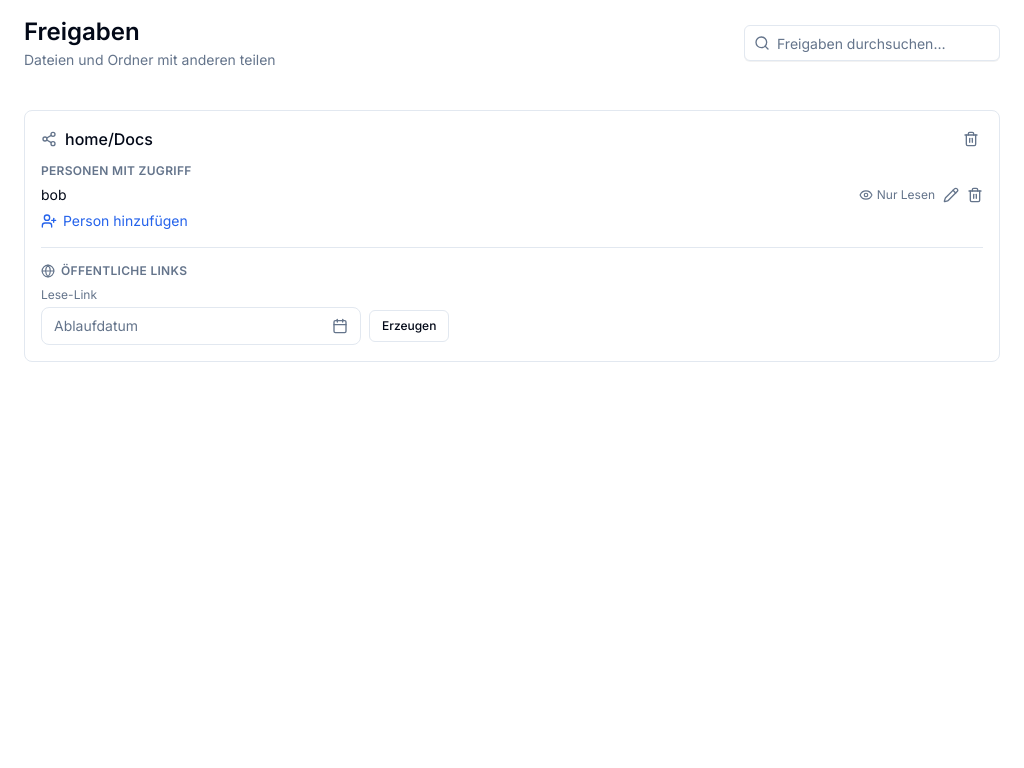
it: SharesPage — grouped shares › bearbeitet einen Empfänger über ein Modal (Stift → updateGrant)
Later steps or results of the test are not shown.
Expected: the text "bob" is shown, x1=41 y1=186 x2=66 y2=203
What coordinates should you click on to do the following:
click the button named "Bearbeiten"
I would click on:
 (951, 195)
Its box is x1=943 y1=187 x2=959 y2=203.
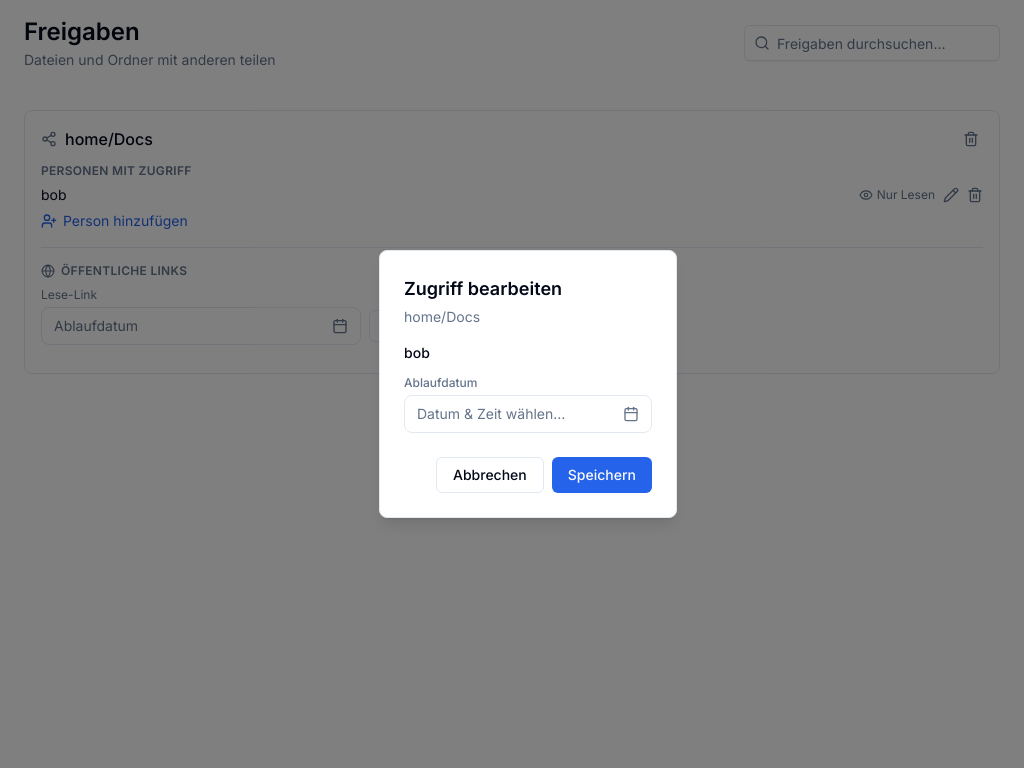
Now the heading "Zugriff bearbeiten" is shown, box x1=404 y1=278 x2=562 y2=299
